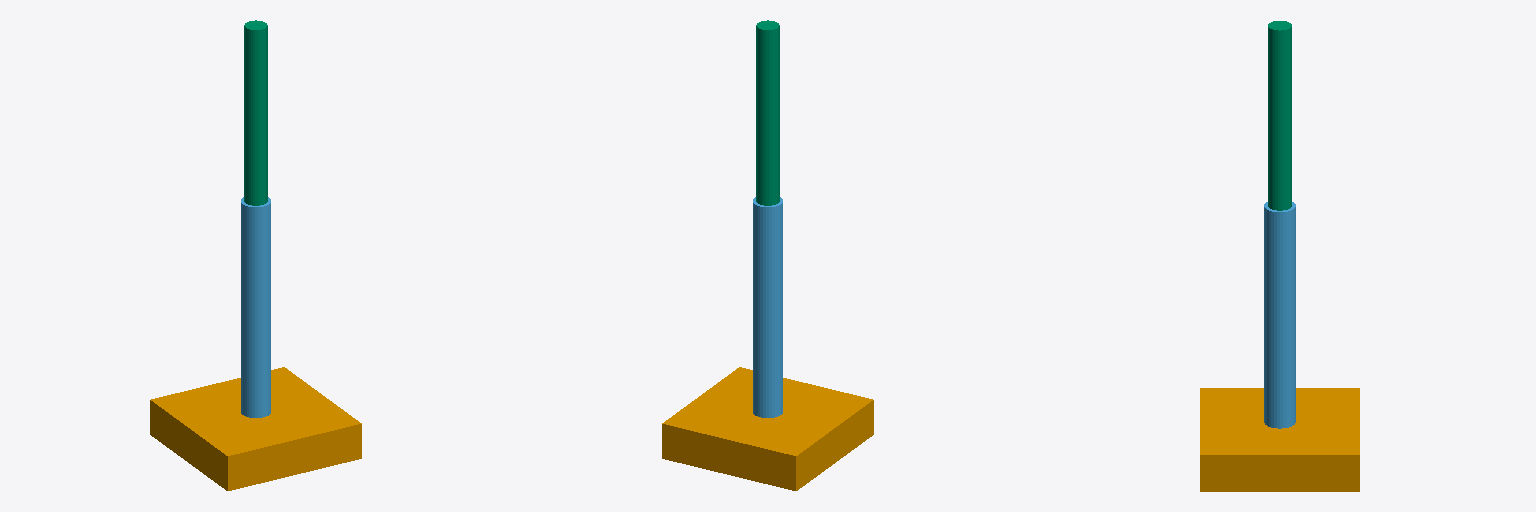
robot.urdf — two_link_arm:
<?xml version="1.0"?>
<!-- Planar two-link arm on a base. Example for the engineering map (CC0). -->
<robot name="two_link_arm">
  <link name="base">
    <visual><geometry><box size="0.2 0.2 0.05"/></geometry></visual>
    <collision><geometry><box size="0.2 0.2 0.05"/></geometry></collision>
    <inertial><mass value="2.0"/><inertia ixx="0.007" ixy="0" ixz="0" iyy="0.007" iyz="0" izz="0.013"/></inertial>
  </link>
  <link name="link1">
    <visual><origin xyz="0 0 0.15"/><geometry><cylinder radius="0.02" length="0.3"/></geometry></visual>
    <inertial><origin xyz="0 0 0.15"/><mass value="0.5"/><inertia ixx="0.0038" ixy="0" ixz="0" iyy="0.0038" iyz="0" izz="0.0001"/></inertial>
  </link>
  <link name="link2">
    <visual><origin xyz="0 0 0.125"/><geometry><cylinder radius="0.015" length="0.25"/></geometry></visual>
    <inertial><origin xyz="0 0 0.125"/><mass value="0.3"/><inertia ixx="0.0016" ixy="0" ixz="0" iyy="0.0016" iyz="0" izz="0.00003"/></inertial>
  </link>
  <joint name="shoulder" type="revolute">
    <parent link="base"/><child link="link1"/>
    <origin xyz="0 0 0.025"/><axis xyz="0 1 0"/>
    <limit lower="-1.57" upper="1.57" effort="20" velocity="2"/>
  </joint>
  <joint name="elbow" type="revolute">
    <parent link="link1"/><child link="link2"/>
    <origin xyz="0 0 0.3"/><axis xyz="0 1 0"/>
    <limit lower="-2.5" upper="2.5" effort="10" velocity="3"/>
  </joint>
</robot>

--- Facts derived from the render (not from the file) ---
Views: 3 orthographic renders of the robot side by side, from view 1: azimuth 30°, elevation 25°; view 2: azimuth 150°, elevation 25°; view 3: azimuth 270°, elevation 25°.
Model two_link_arm with 3 links and 2 joints (2 revolute), rooted at base, posed all joints at 0.
Visible links, largest first — view 1: base, link1, link2; view 2: base, link1, link2; view 3: base, link1, link2.
Link boxes in pixels (bbox=[...]): base: bbox=[150, 367, 361, 490]; link1: bbox=[241, 197, 270, 417]; link2: bbox=[244, 20, 267, 205]; base: bbox=[662, 367, 873, 490]; link1: bbox=[753, 197, 782, 417]; link2: bbox=[756, 20, 779, 205]; base: bbox=[1200, 388, 1359, 491]; link1: bbox=[1264, 202, 1295, 428]; link2: bbox=[1268, 21, 1291, 210].
Bounding box of the posed robot: 0.2 × 0.2 × 0.6 m (x, y, z).
Geometry: primitives only (box / cylinder / sphere), no mesh files.
